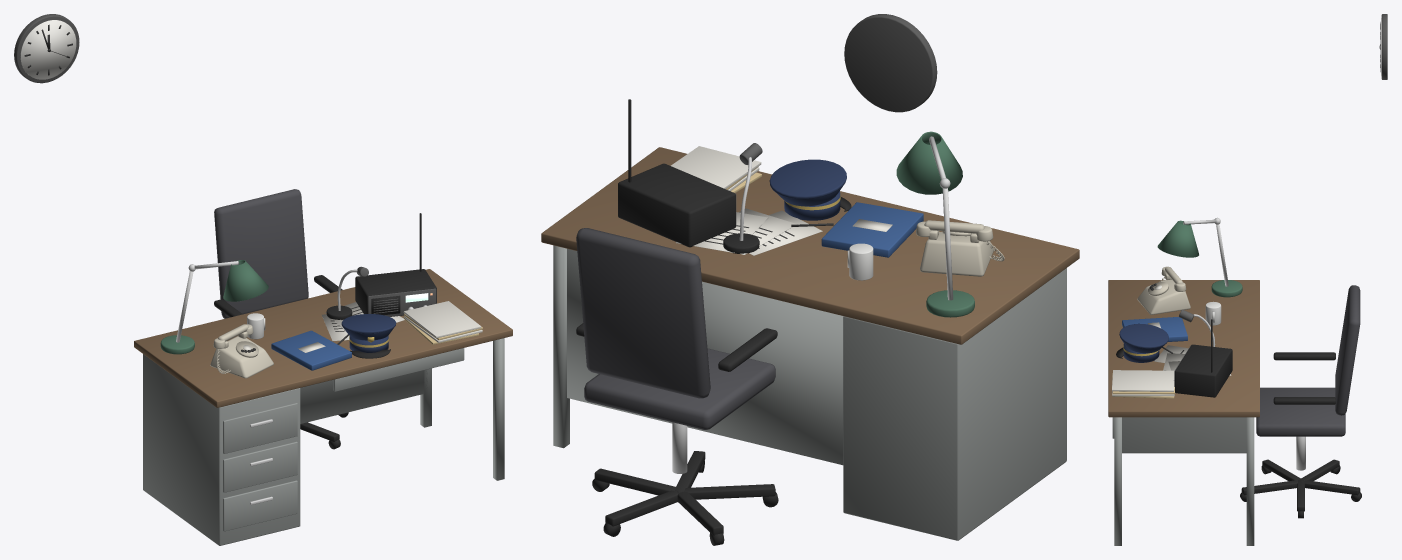
Rendered from PoliceStation_Props.fbx.
3 views of the same model, side by side, from view 1: azimuth 30°, elevation 25°; view 2: azimuth 150°, elevation 25°; view 3: azimuth 270°, elevation 25° (orthographic). The views are drawn at different scales.
Visible parts, largest first — view 1: Desk_Pedestal_L, Desk_Top, Chair_Back, Desk_ModestyPanel, Clock_Face, Desk_Drawer_0, Desk_Drawer_1, Desk_Drawer_2, DeskRadio_Body, Binder_Log, Desk_CenterDrawer, Desk_Leg_R1 (+7 smaller); view 2: Desk_Pedestal_L, Desk_Top, Desk_ModestyPanel, Chair_Back, Clock_Back, DeskRadio_Body, Chair_Seat, Binder_Log, Desk_Leg_R2, Lamp_Shade, Cap_Top, Phone_Body (+14 smaller); view 3: Desk_Top, Desk_Pedestal_L, Chair_Seat, DeskRadio_Body, Chair_Back, Files_Stack_3, Desk_Leg_R2, Phone_Body, Desk_Leg_R1, Lamp_Shade, Cap_Top, Binder_Log (+9 smaller).
Boxes of the visible parts, x1,y1,x2,y2 form: Desk_Pedestal_L: [143, 354, 300, 545]; Desk_Top: [134, 269, 512, 407]; Chair_Back: [214, 189, 308, 318]; Desk_ModestyPanel: [300, 370, 427, 423]; Clock_Face: [20, 20, 76, 79]; Desk_Drawer_0: [223, 480, 297, 531]; Desk_Drawer_1: [223, 441, 297, 492]; Desk_Drawer_2: [223, 403, 297, 453]; DeskRadio_Body: [355, 269, 436, 315]; Binder_Log: [271, 330, 351, 370]; Desk_CenterDrawer: [333, 348, 464, 391]; Desk_Leg_R1: [493, 338, 504, 480]; Desk_Pedestal_L: [843, 268, 1066, 540]; Desk_Top: [541, 147, 1079, 344]; Desk_ModestyPanel: [567, 248, 843, 465]; Chair_Back: [576, 228, 710, 398]; Clock_Back: [844, 14, 937, 112]; DeskRadio_Body: [618, 163, 735, 247]; Chair_Seat: [584, 348, 775, 429]; Binder_Log: [821, 202, 923, 257]; Desk_Leg_R2: [553, 245, 569, 448]; Lamp_Shade: [896, 131, 962, 194]; Cap_Top: [769, 159, 846, 198]; Phone_Body: [920, 231, 993, 276]; Desk_Top: [1108, 280, 1259, 417]; Desk_Pedestal_L: [1122, 417, 1246, 453]; Chair_Seat: [1256, 387, 1345, 436]; DeskRadio_Body: [1175, 344, 1232, 397]; Chair_Back: [1335, 285, 1360, 415]; Files_Stack_3: [1112, 370, 1174, 391]; Desk_Leg_R2: [1246, 417, 1254, 545]; Phone_Body: [1137, 279, 1190, 314]; Desk_Leg_R1: [1114, 417, 1121, 545]; Lamp_Shade: [1157, 220, 1198, 257]; Cap_Top: [1119, 323, 1168, 348]; Binder_Log: [1122, 317, 1187, 341].
Size of the model in its own units: 1.87 by 2.22 by 1.44.
